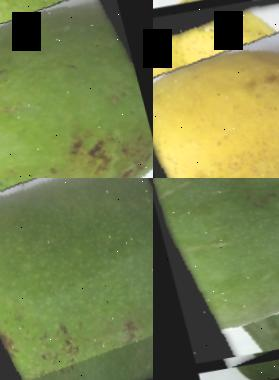Ripe: (153, 0, 279, 178)
Unripe: (0, 178, 153, 380), (0, 0, 153, 178), (153, 178, 279, 367)
